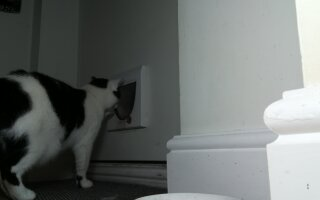bad: (4, 68, 120, 197)
